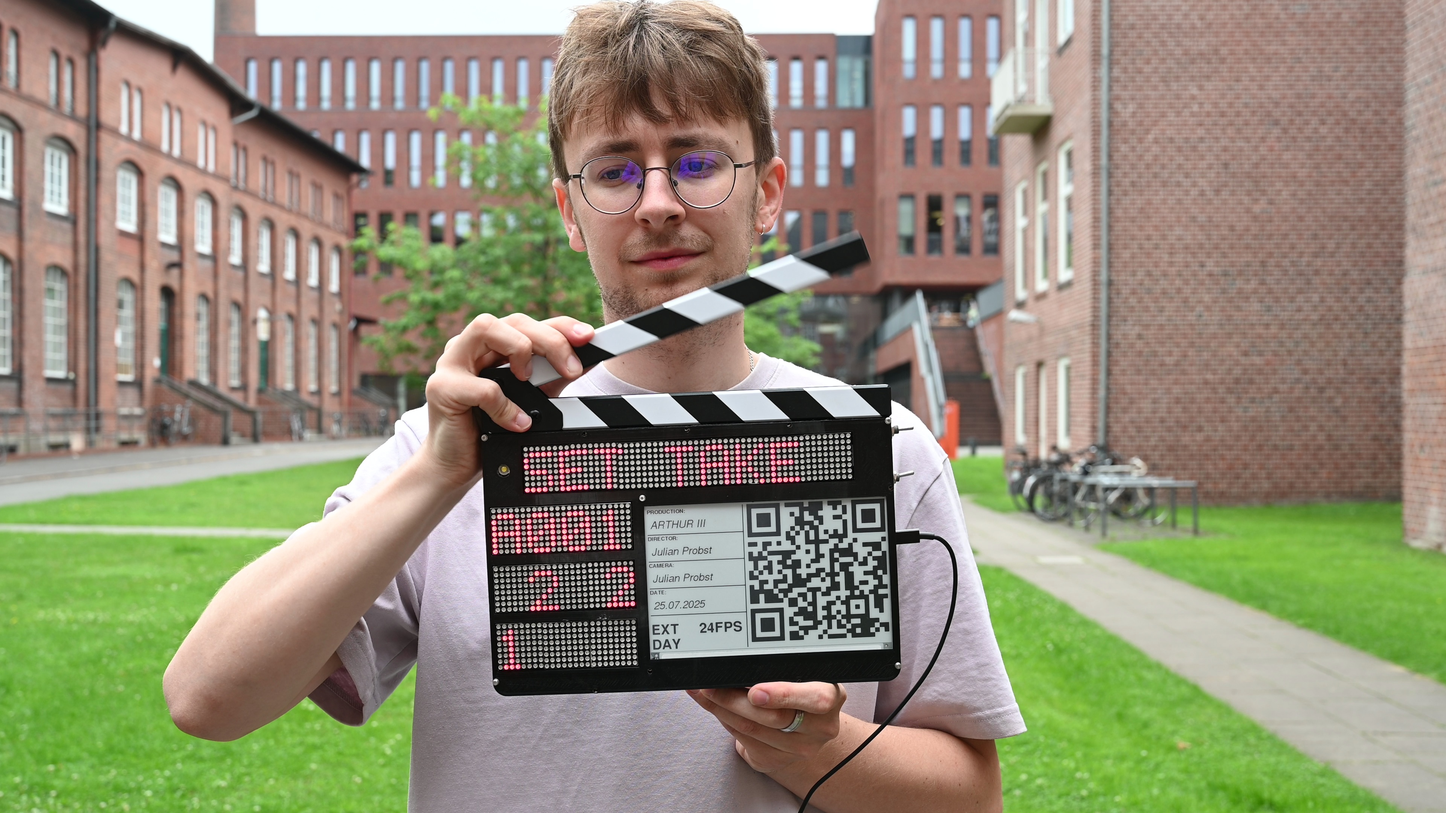ARC-SLATE: (481, 382, 895, 693)
